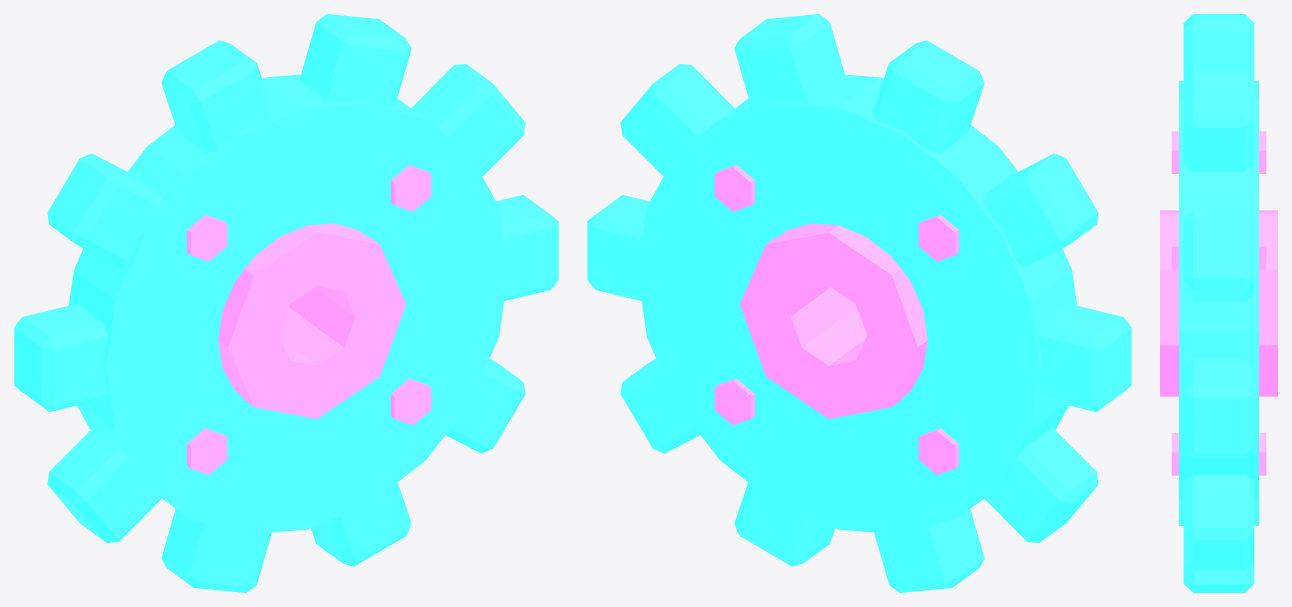
Rendered from item_gear_neon.fbx.
3 views of the same model, side by side, from view 1: azimuth 30°, elevation 25°; view 2: azimuth 150°, elevation 25°; view 3: azimuth 270°, elevation 25° (orthographic). The views are drawn at different scales.
Parts seen in each view (by area): view 1: item_gear_neon; view 2: item_gear_neon; view 3: item_gear_neon.
Boxes of the visible parts, <box> form: item_gear_neon: <box>14,14,558,592</box>; item_gear_neon: <box>587,14,1131,592</box>; item_gear_neon: <box>1160,14,1277,592</box>.
Bounding box in the file's own units: 2.44 × 2.4 × 0.5.
